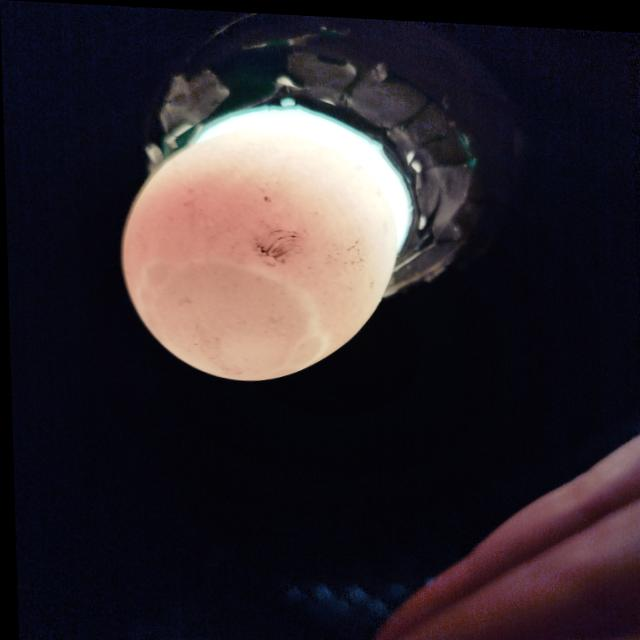Camara de Ar: (134, 259, 326, 378)
